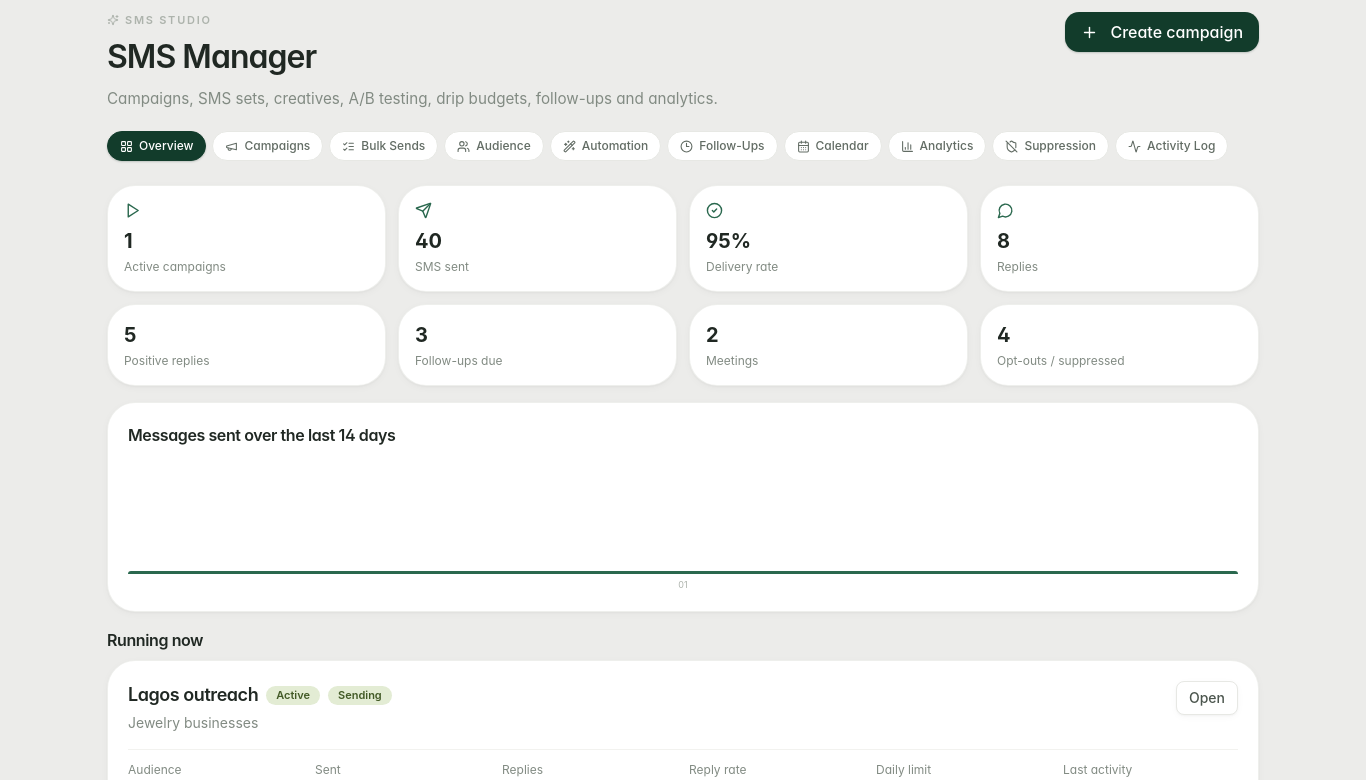
Test: SMS Manager › shows the suppression section explaining send-time checks
Expected: the heading "SMS Manager" is shown, [107, 36, 316, 76]
What coordinates should you click on to do the following:
click the button "Suppression"
I would click on:
 (1051, 146)
Its box is [992, 131, 1109, 161].
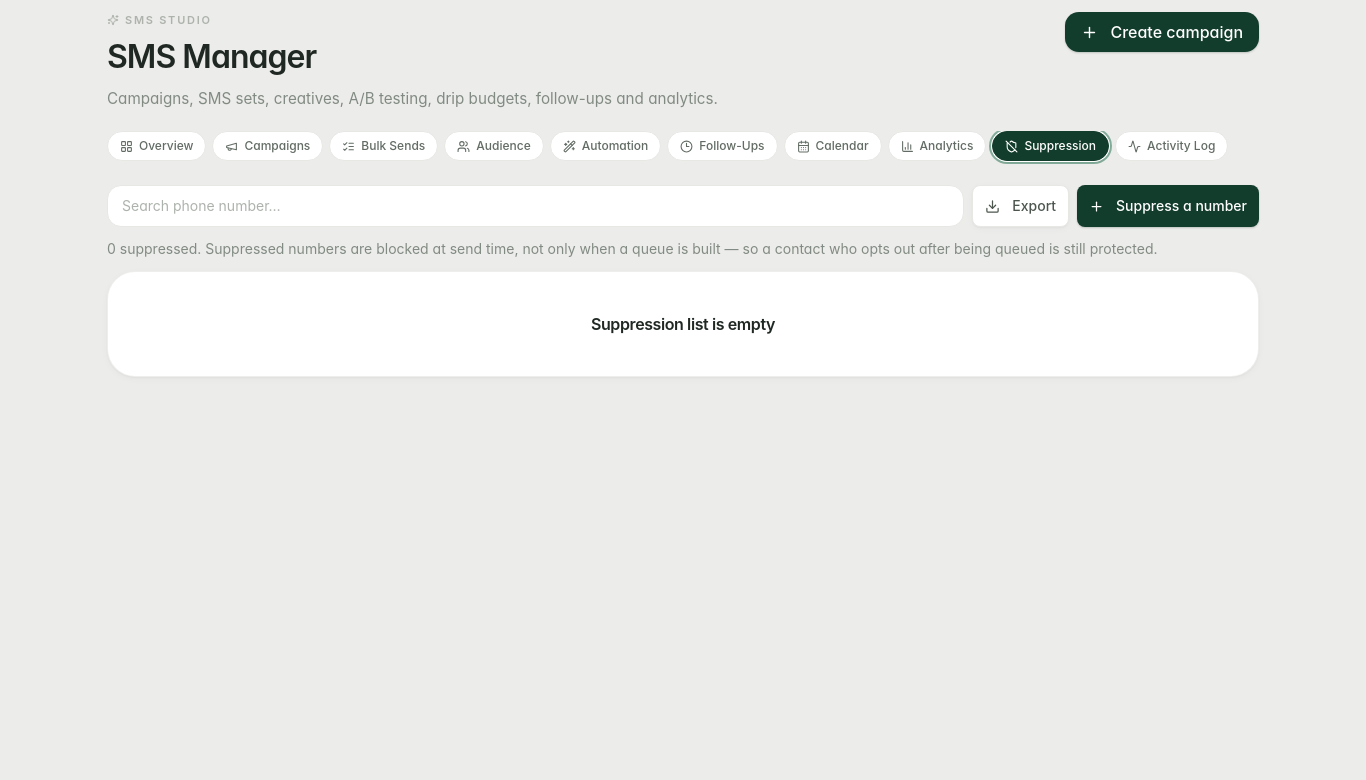
Expected: the text "blocked at send time" is shown, [116, 240, 1158, 257]
